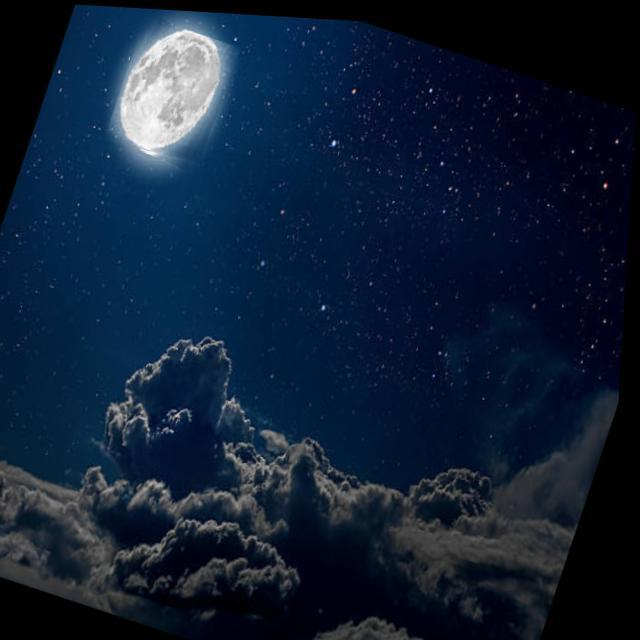moon: (104, 12, 242, 171)
